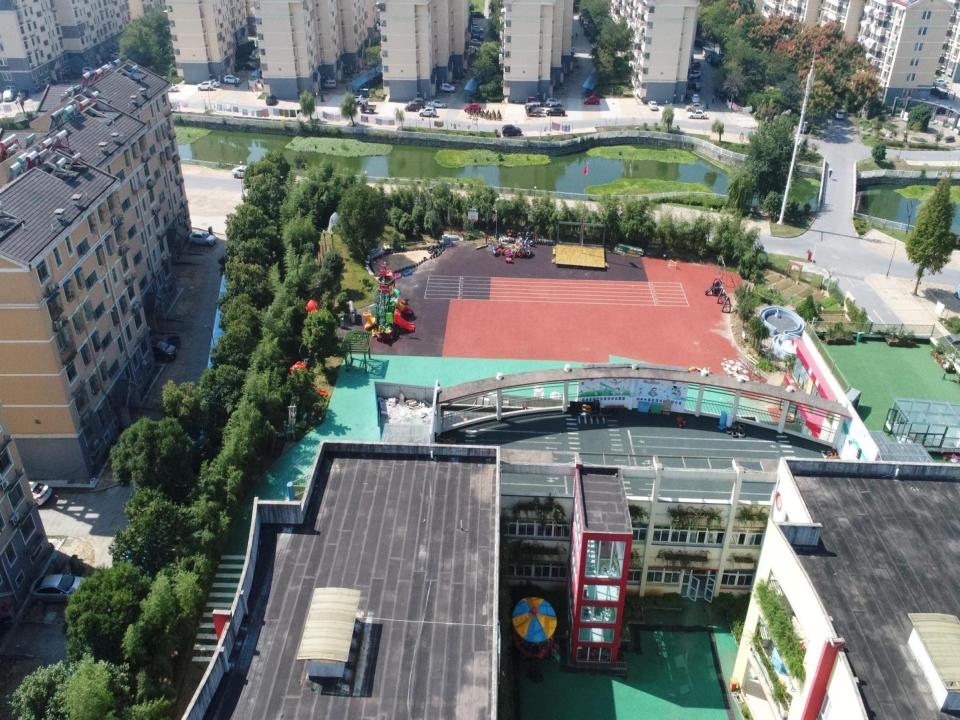car: (29, 572, 88, 606), (13, 478, 52, 508), (146, 338, 176, 362), (188, 229, 216, 247), (232, 164, 256, 179), (428, 181, 450, 195), (501, 123, 522, 137), (686, 108, 707, 120), (196, 80, 214, 92), (464, 101, 482, 113), (525, 96, 543, 108), (546, 106, 565, 117), (162, 81, 179, 93), (223, 73, 240, 85), (408, 97, 425, 109), (82, 65, 99, 77), (439, 82, 455, 94), (418, 107, 437, 117), (685, 102, 704, 112), (346, 94, 363, 105), (583, 94, 600, 105), (430, 99, 447, 109), (545, 96, 562, 106), (2, 87, 14, 101), (404, 102, 420, 112), (932, 77, 948, 87), (110, 52, 126, 62), (265, 93, 277, 106), (18, 87, 29, 101), (206, 78, 221, 88), (832, 107, 844, 119), (688, 69, 701, 80), (469, 37, 482, 47), (241, 62, 257, 70), (470, 34, 484, 42), (648, 99, 658, 110), (690, 92, 700, 103), (691, 80, 701, 90), (468, 22, 482, 29), (471, 26, 483, 34), (800, 120, 807, 133), (248, 54, 258, 61)
van: (323, 79, 336, 90), (690, 59, 700, 69)
